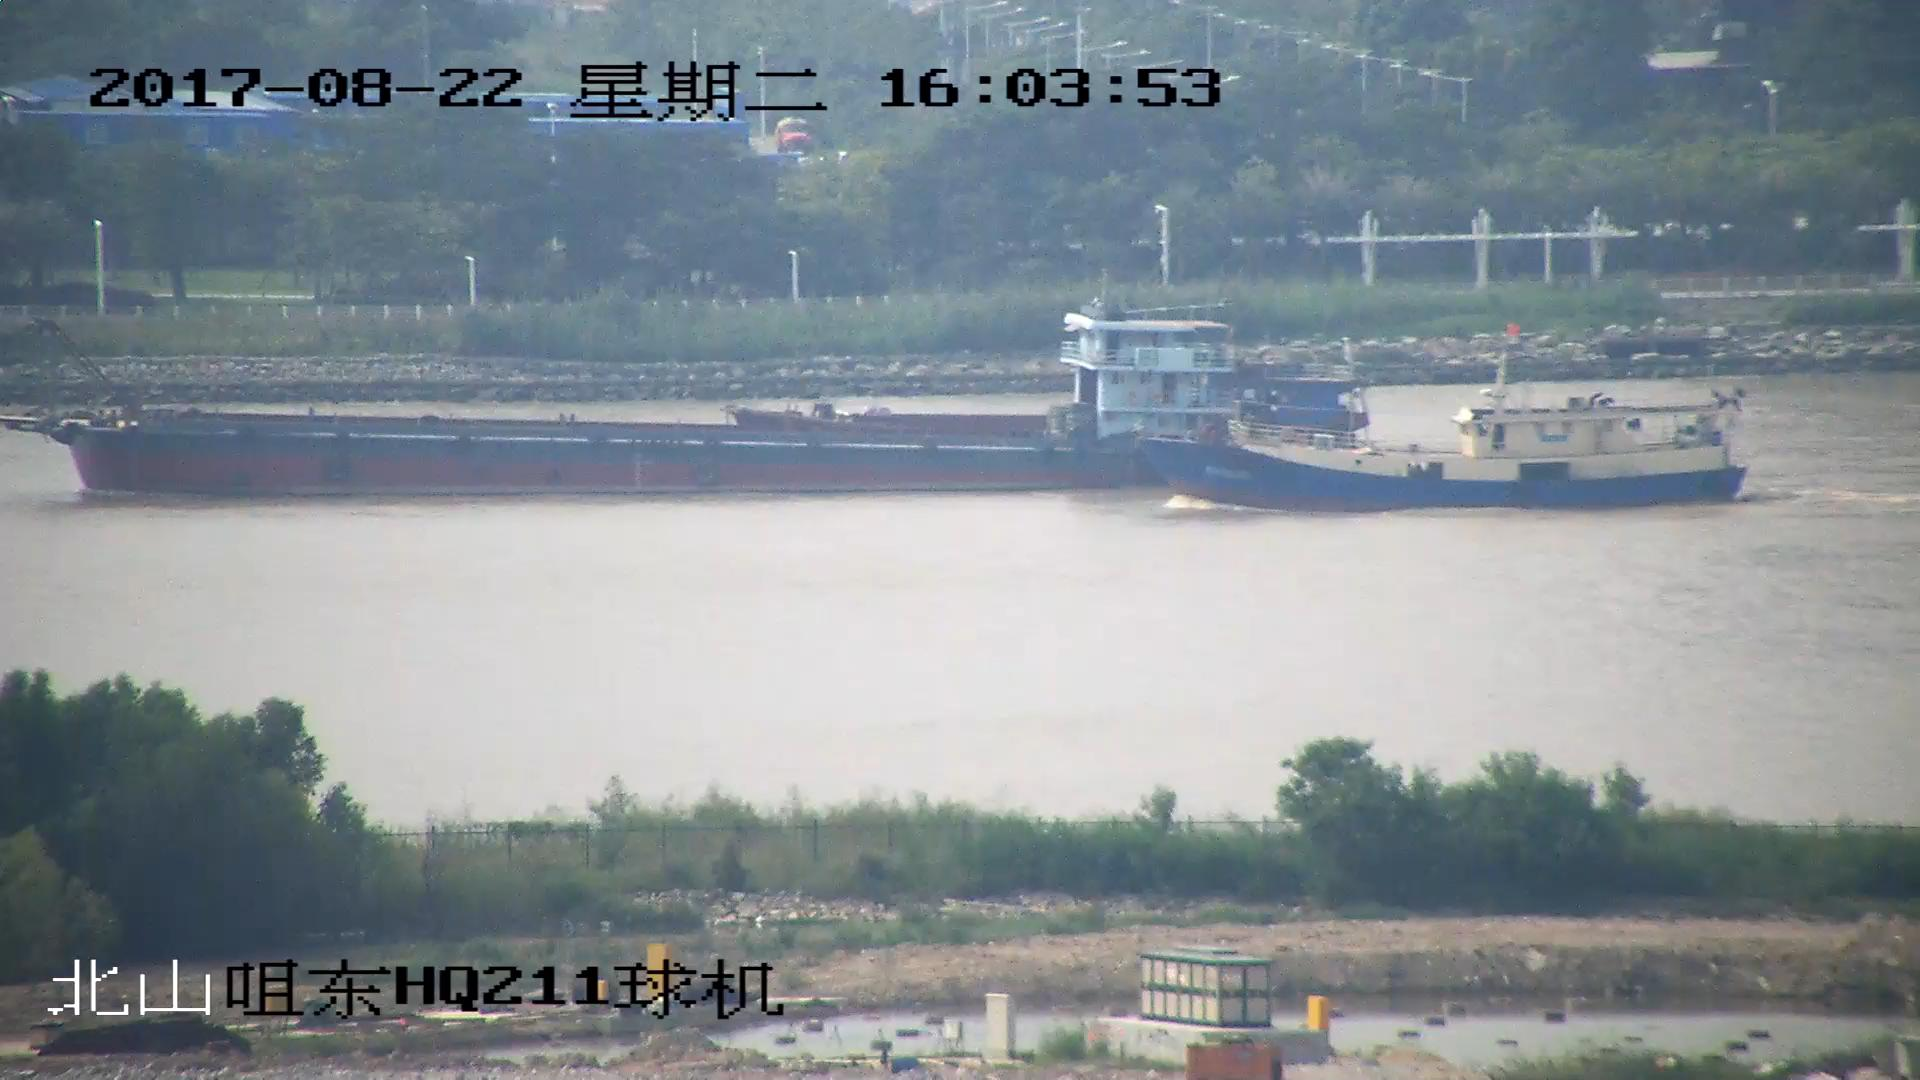bulk cargo carrier: (1, 304, 1240, 491)
fishing boat: (1146, 322, 1753, 512)
